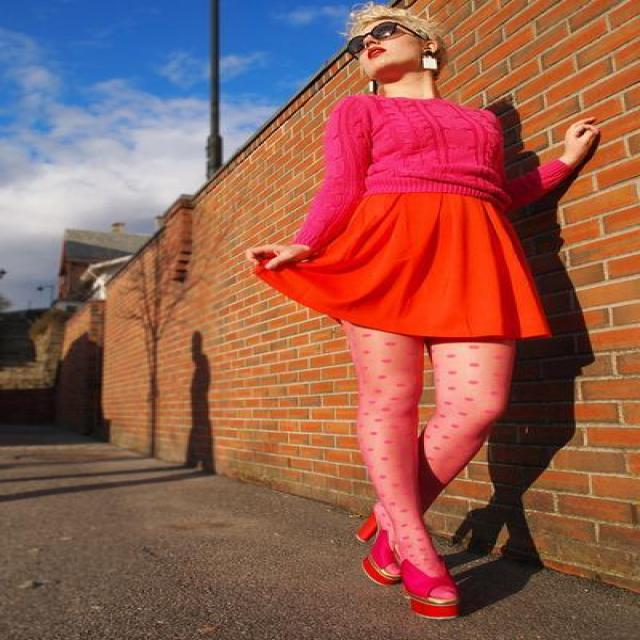jacket: (293, 94, 573, 242)
shoe: (365, 550, 456, 616)
skirt: (256, 192, 549, 357)
sunglass: (353, 0, 408, 37)
